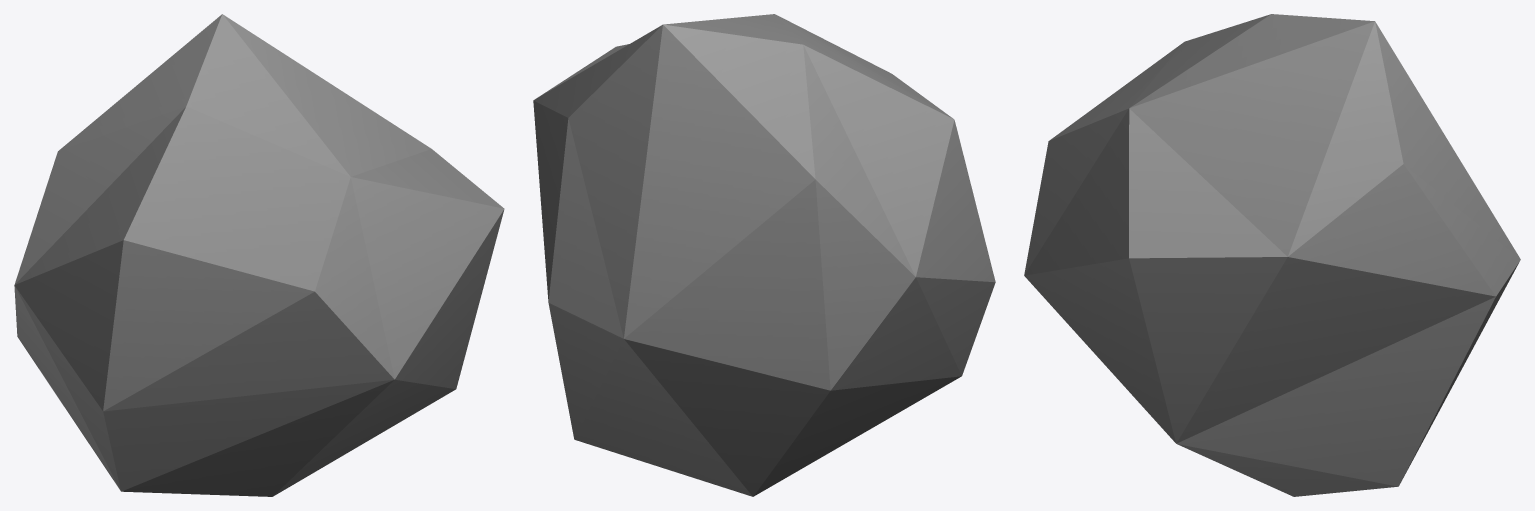
File: Rock_Small_2.fbx
3 views of the same model, side by side, from view 1: azimuth 30°, elevation 25°; view 2: azimuth 150°, elevation 25°; view 3: azimuth 270°, elevation 25° (orthographic). The views are drawn at different scales.
Parts seen in each view (by area): view 1: Rock_Small_2; view 2: Rock_Small_2; view 3: Rock_Small_2.
Part boxes in pixels (x1=…): Rock_Small_2: x1=14, y1=14, x2=504, y2=496; Rock_Small_2: x1=533, y1=14, x2=995, y2=496; Rock_Small_2: x1=1024, y1=14, x2=1520, y2=496.
Bounding box in the file's own units: 114 × 122 × 119.
